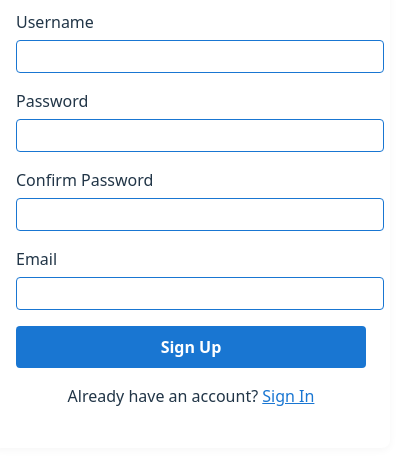
Test case: SignupForm › shows backend error message when signup fails
Type "fatty" into the field labelled "Username" at (200, 56), box [16, 40, 384, 73]
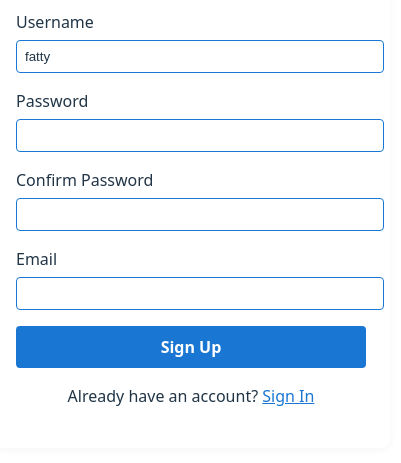
Type "moushami123" into the password field labelled "Password" at (200, 136), box [16, 119, 384, 152]
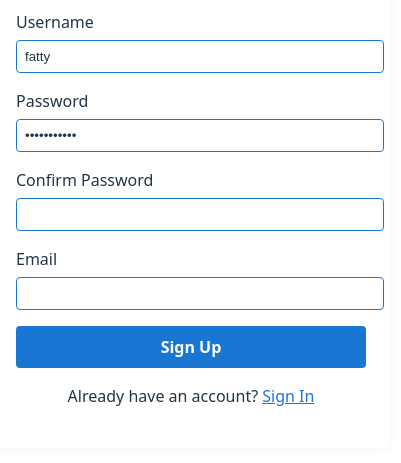
Type "moushami123" into the password field labelled "Confirm Password" at (200, 214), box [16, 198, 384, 231]
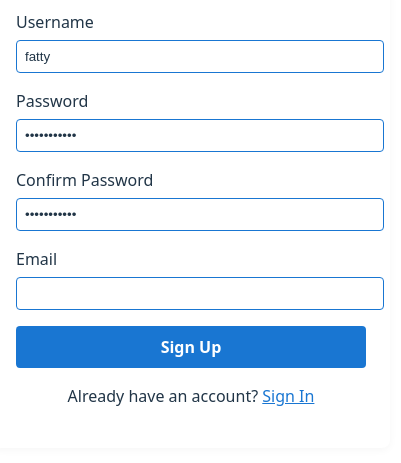
Type "fatty@email.com" into the field labelled "Email" at (200, 294), box [16, 277, 384, 310]
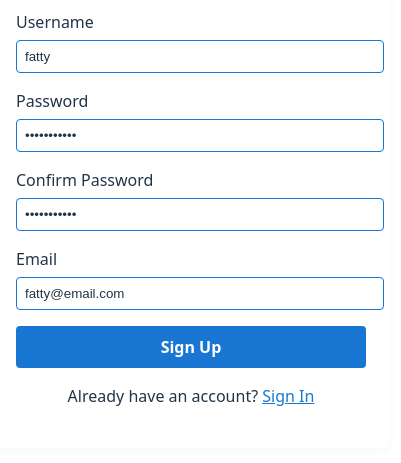
Click the button "Sign Up" at (191, 347), box [16, 326, 366, 368]
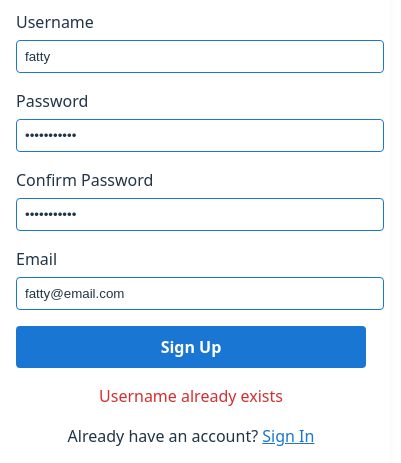
Now the text "Username already exists" is shown, box [99, 385, 283, 407]
